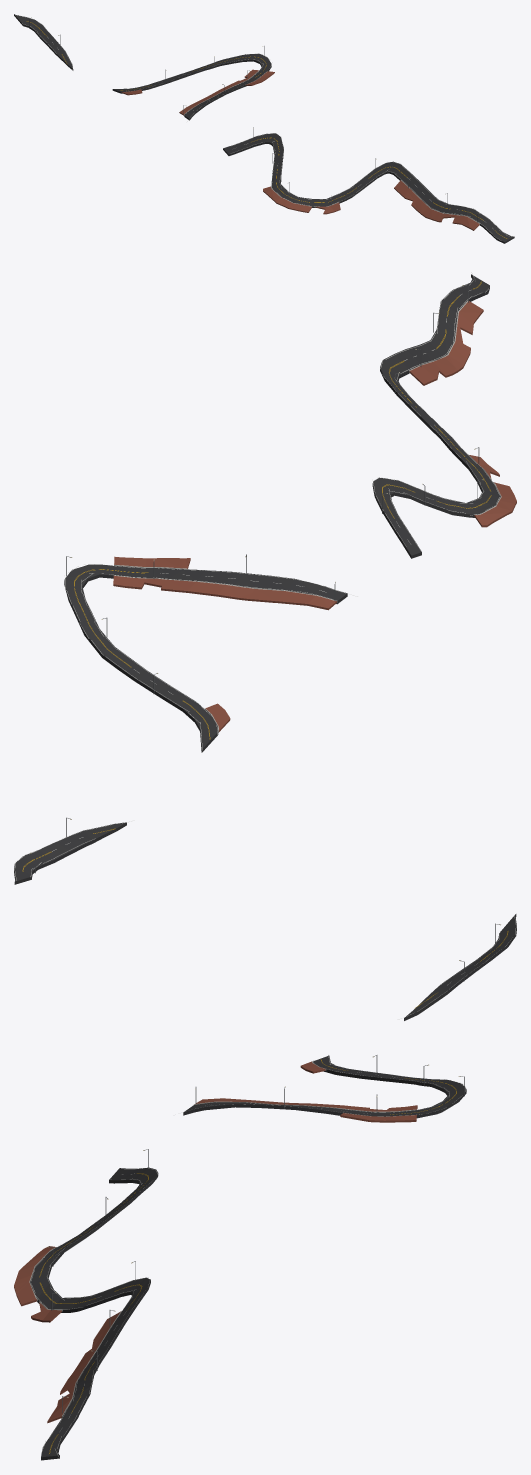
3 views of the same model, one above another, from view 1: azimuth 30°, elevation 25°; view 2: azimuth 150°, elevation 25°; view 3: azimuth 330°, elevation 25° (orthographic). The views are drawn at different scales.
Size of the model in its own units: 103 by 40.79 by 489.
